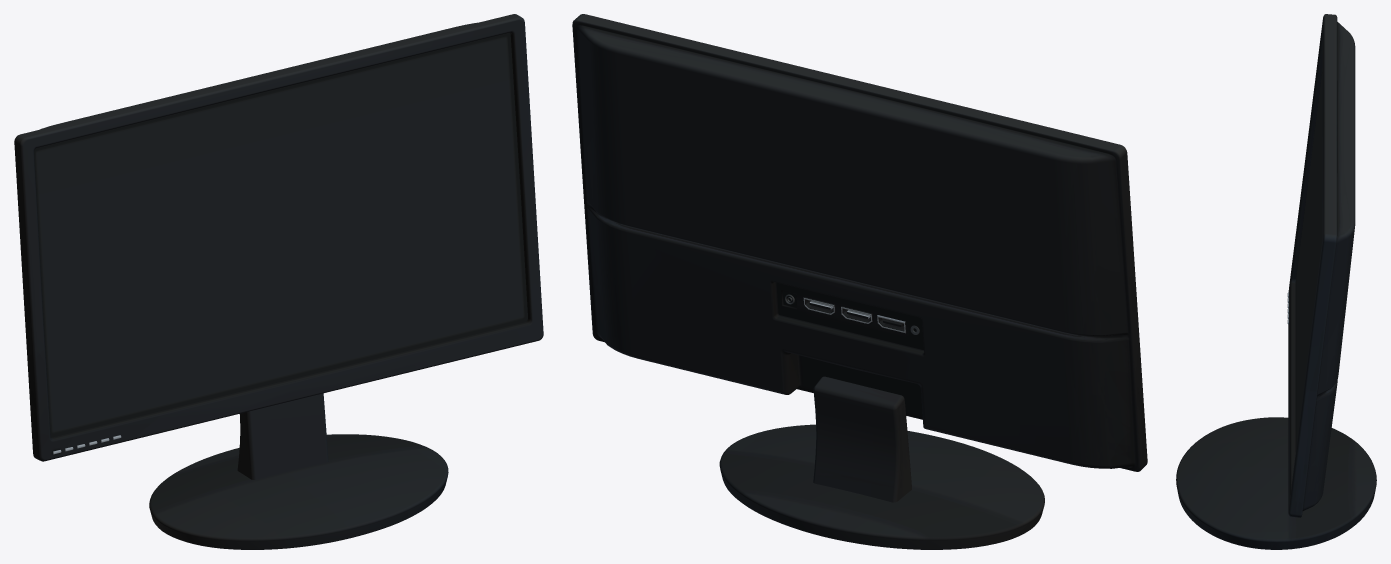
Rendered from Computer monitor.glb.
3 renders of one model, left to right at view 1: azimuth 30°, elevation 25°; view 2: azimuth 150°, elevation 25°; view 3: azimuth 270°, elevation 25°, orthographic. The views are drawn at different scales.
Visible parts, largest first — view 1: monitor.1; view 2: monitor.1; view 3: monitor.1.
Boxes of the visible parts, x1,y1,x2,y2 form: monitor.1: (14,14,543,549); monitor.1: (572,14,1147,549); monitor.1: (1176,14,1376,549).
Size of the model in its own units: 0.0862 by 0.0656 by 0.0326.
Materials: 1 (1 with a texture image).
